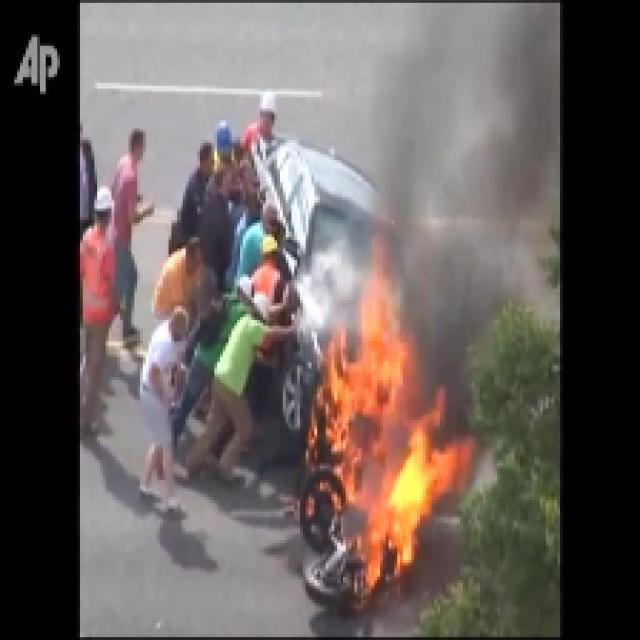fire: (296, 332, 474, 572)
smoke: (360, 26, 541, 244)
